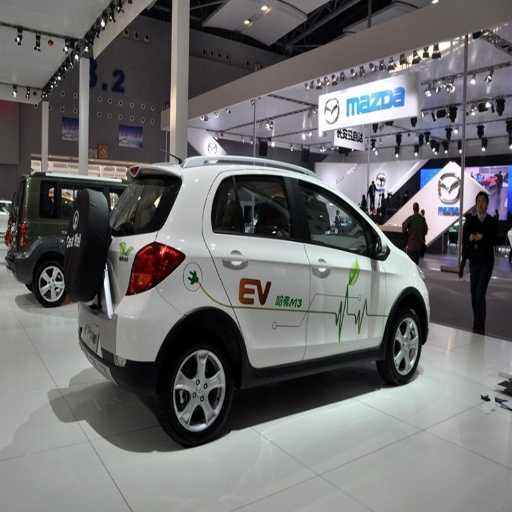back_bumper: (89, 288, 180, 371)
back_right_door: (205, 169, 310, 367)
trunk: (16, 216, 95, 291)
